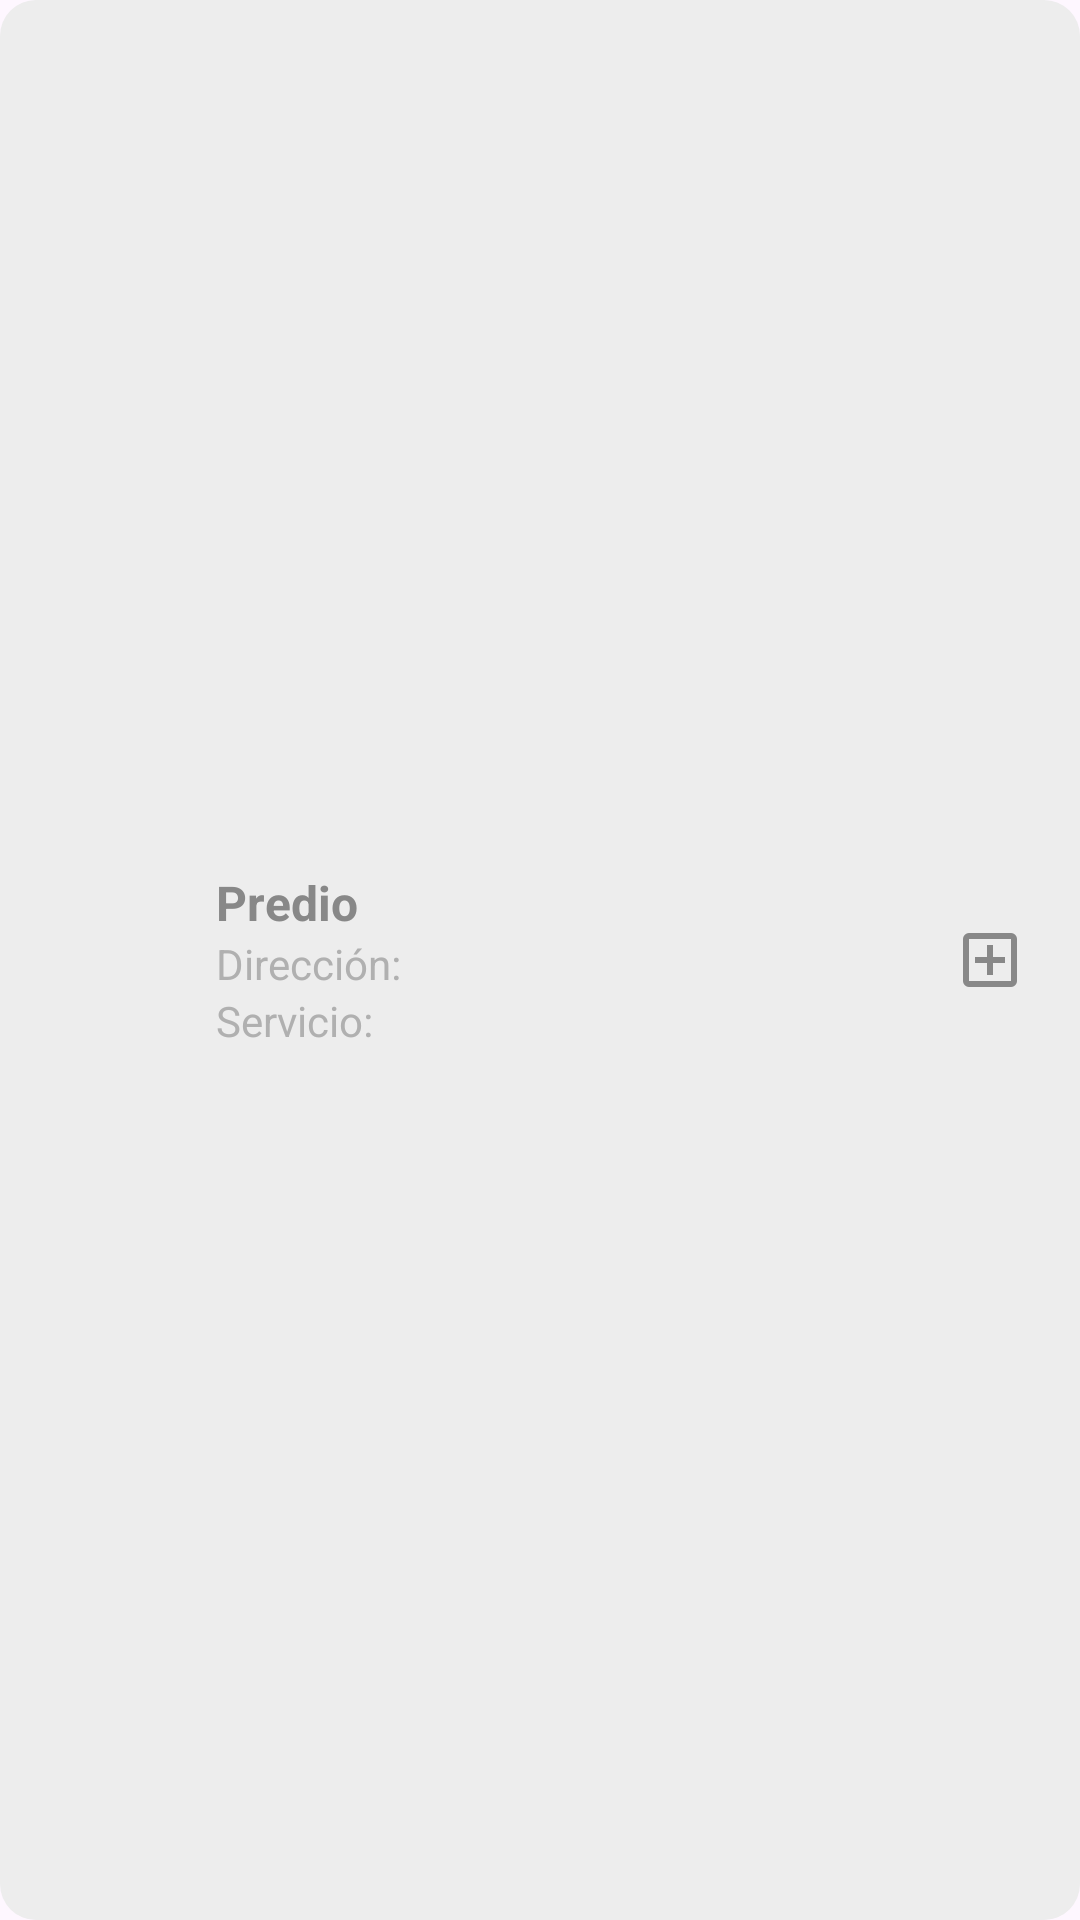

Named icons in this screenshot (1080w x 1920h) and their centers, (x,y):
Agregar Predio: (990,960)
